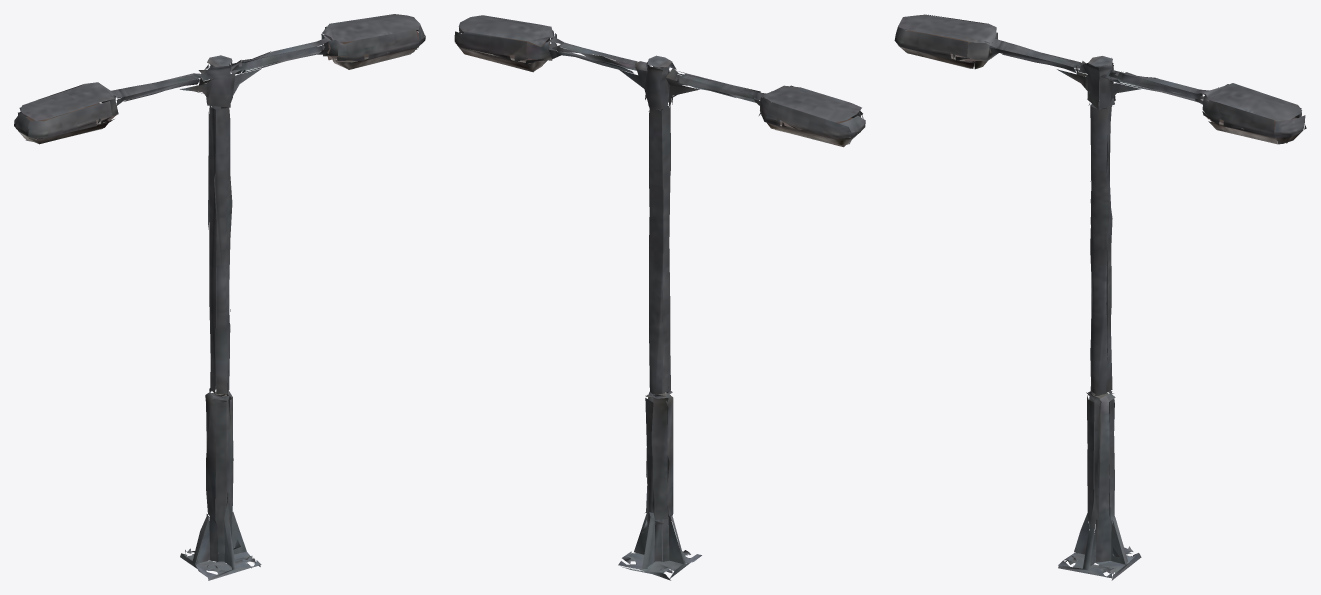
File: hafen_laterne.glb
3 views of the same model, side by side, from view 1: azimuth 30°, elevation 25°; view 2: azimuth 150°, elevation 25°; view 3: azimuth 330°, elevation 25° (orthographic).
Visible parts, largest first — view 1: Prop; view 2: Prop; view 3: Prop.
Part boxes in pixels (box(x1,y1,x2,y2)): Prop: box(14, 14, 425, 580); Prop: box(454, 15, 865, 580); Prop: box(894, 14, 1306, 580).
Bounding box in the file's own units: 0.8384 × 1 × 0.1199.
Materials: 1 (1 with a texture image).
